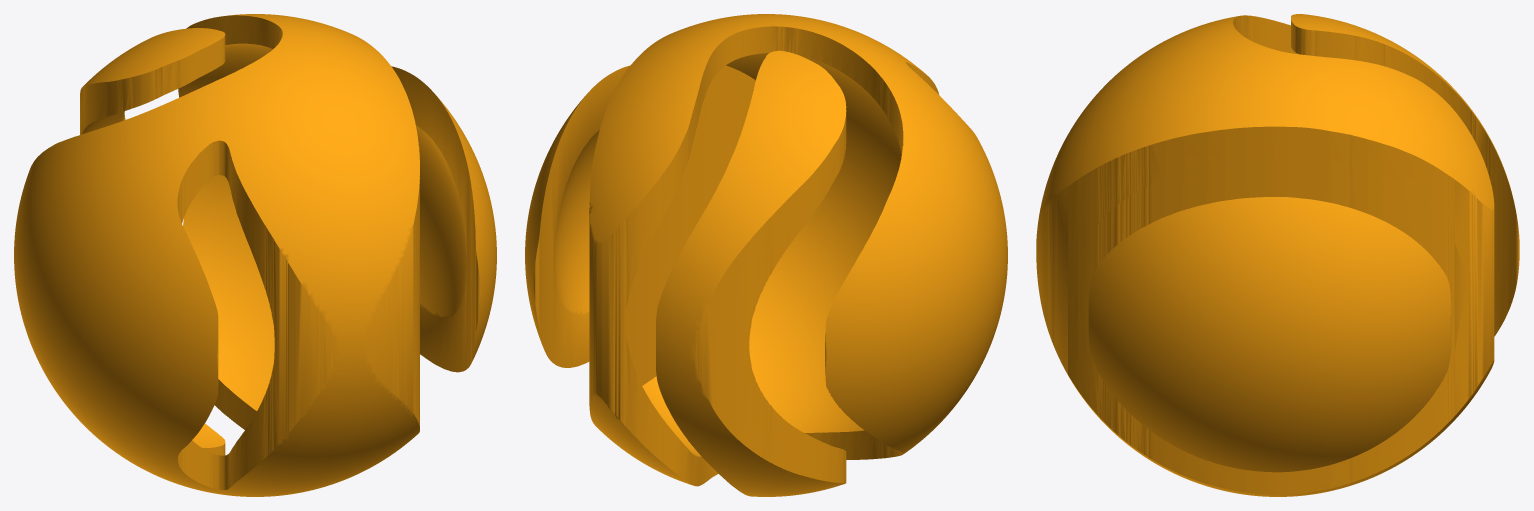
Rendered from sinhala_kw_globe_shell.obj.
3 views of the same model, side by side, from view 1: azimuth 30°, elevation 25°; view 2: azimuth 150°, elevation 25°; view 3: azimuth 270°, elevation 25° (orthographic).
Visible parts, largest first — view 1: SinhalaKW_Globe_Shell; view 2: SinhalaKW_Globe_Shell; view 3: SinhalaKW_Globe_Shell.
Part boxes in pixels (x1=…): SinhalaKW_Globe_Shell: x1=14, y1=14, x2=496, y2=496; SinhalaKW_Globe_Shell: x1=525, y1=14, x2=1007, y2=496; SinhalaKW_Globe_Shell: x1=1036, y1=14, x2=1519, y2=496.
Bounding box in the file's own units: 2 × 1.99 × 2.
